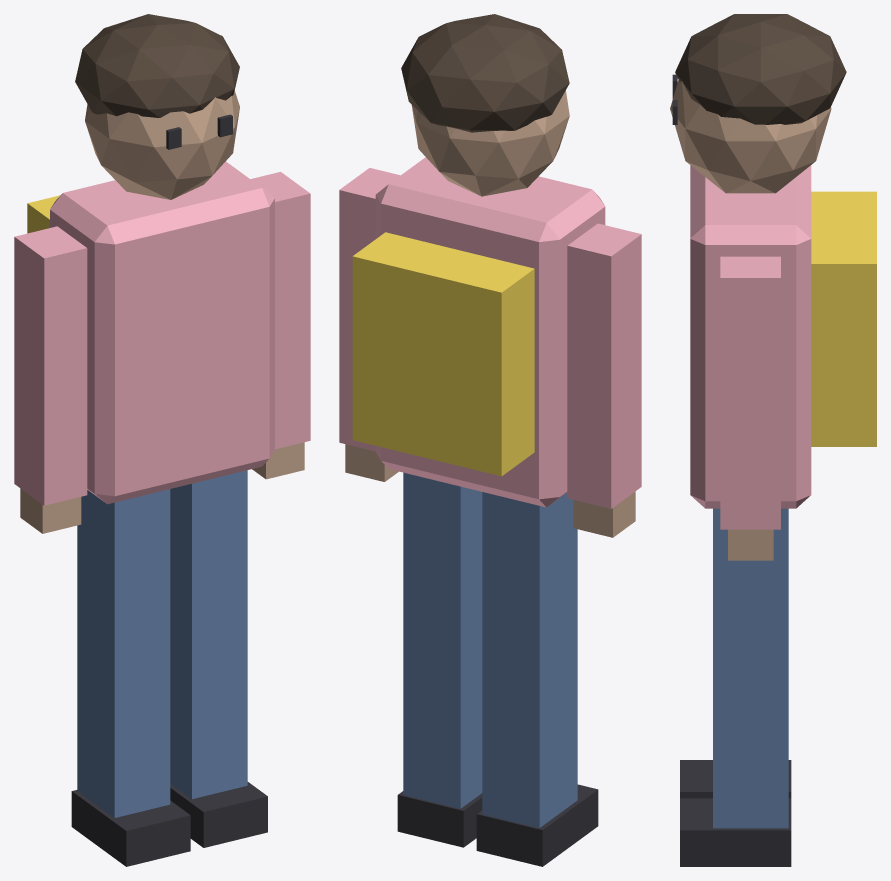
The model's file is sm_customer_kid.glb.
3 renders of one model, left to right at view 1: azimuth 30°, elevation 25°; view 2: azimuth 150°, elevation 25°; view 3: azimuth 270°, elevation 25°, orthographic. The views are drawn at different scales.
Parts seen in each view (by area): view 1: kid_body, kid_leg, kid_leg.001, kid_arm, kid_hair, kid_head, kid_arm.001, kid_shoe, kid_shoe.001, kid_hand, kid_hand.001, kid_backpack; view 2: kid_backpack, kid_leg, kid_body, kid_leg.001, kid_arm, kid_hair, kid_head, kid_arm.001, kid_shoe, kid_shoe.001, kid_hand, kid_hand.001; view 3: kid_body, kid_leg.001, kid_backpack, kid_arm.001, kid_hair, kid_head, kid_shoe.001, kid_hand.001, kid_shoe.
Part boxes in pixels (<box>): kid_body: <box>50,161,274,504</box>; kid_leg: <box>77,489,170,817</box>; kid_leg.001: <box>170,470,247,798</box>; kid_arm: <box>14,226,87,505</box>; kid_hair: <box>75,14,239,117</box>; kid_head: <box>85,91,239,199</box>; kid_arm.001: <box>250,171,310,449</box>; kid_shoe: <box>71,790,190,866</box>; kid_shoe.001: <box>170,782,267,847</box>; kid_hand: <box>20,488,81,533</box>; kid_hand.001: <box>252,442,304,479</box>; kid_backpack: <box>27,195,60,233</box>; kid_backpack: <box>352,232,534,476</box>; kid_leg: <box>482,492,577,828</box>; kid_body: <box>375,157,605,507</box>; kid_leg.001: <box>403,472,482,808</box>; kid_arm: <box>567,223,641,508</box>; kid_hair: <box>401,14,569,132</box>; kid_head: <box>411,90,569,196</box>; kid_arm.001: <box>339,168,400,451</box>; kid_shoe: <box>476,784,598,866</box>; kid_shoe.001: <box>397,791,482,847</box>; kid_hand: <box>573,491,635,537</box>; kid_hand.001: <box>345,444,398,481</box>; kid_body: <box>690,165,811,508</box>; kid_leg.001: <box>713,508,788,828</box>; kid_backpack: <box>811,191,876,446</box>; kid_arm.001: <box>720,256,780,529</box>; kid_hair: <box>675,14,846,124</box>; kid_head: <box>670,80,831,193</box>; kid_shoe.001: <box>680,798,791,866</box>; kid_hand.001: <box>728,529,773,560</box>; kid_shoe: <box>680,760,791,798</box>.
Size of what is drawn, in the model's own units: 0.434 by 1.24 by 0.287.
